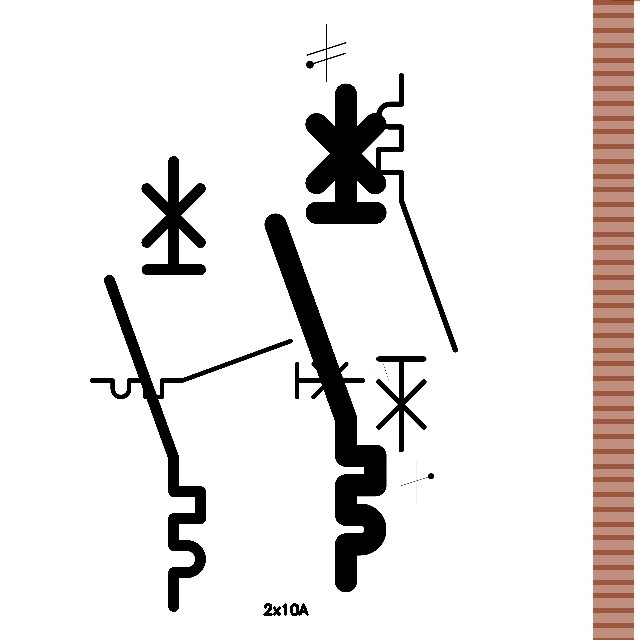interruptor_termomagnetico: (263, 81, 388, 593), (98, 150, 212, 618), (369, 66, 465, 459), (85, 334, 370, 404)
